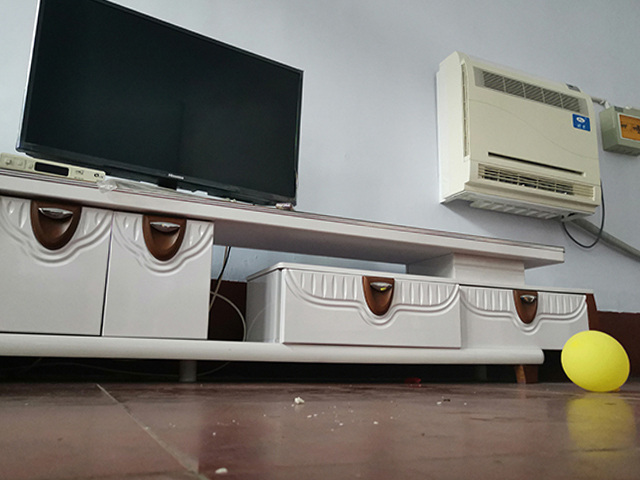cabinet: (1, 166, 601, 384)
